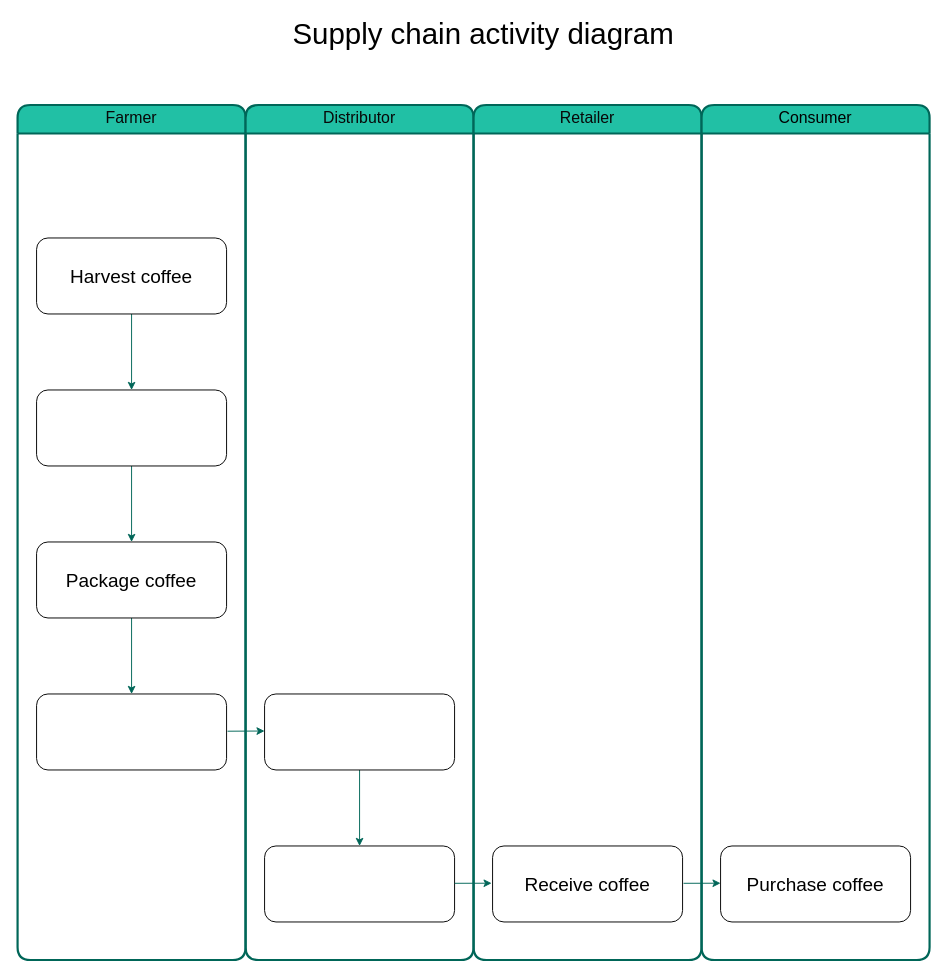
Image size: 947x978. Some labels were removed from this diagram. Here are the shapes that lost their labels. From the top down, the centre of each, then its label:
point 131,427: Process coffee
point 131,731: For sale
point 359,731: Buy coffee
point 359,883: Ship coffee
